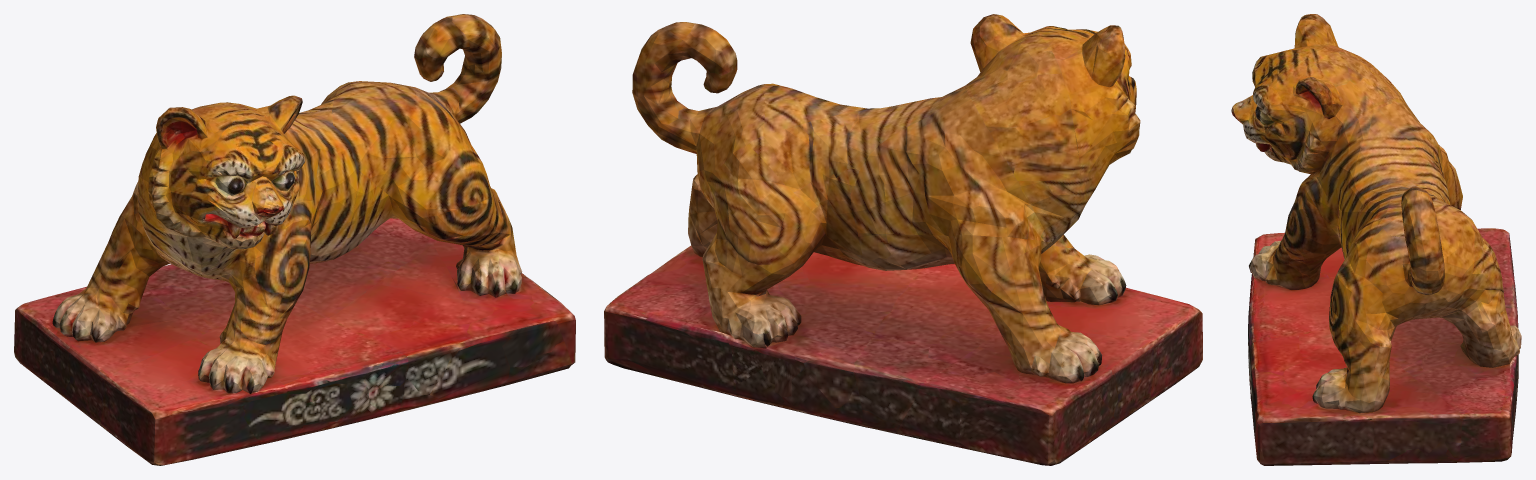
The model's file is huye-lite.glb.
3 renders of one model, left to right at view 1: azimuth 30°, elevation 25°; view 2: azimuth 150°, elevation 25°; view 3: azimuth 270°, elevation 25°, orthographic. The views are drawn at different scales.
Size of the model in its own units: 0.9802 by 0.6974 by 0.6263.
Materials: 1 (1 with a texture image).
